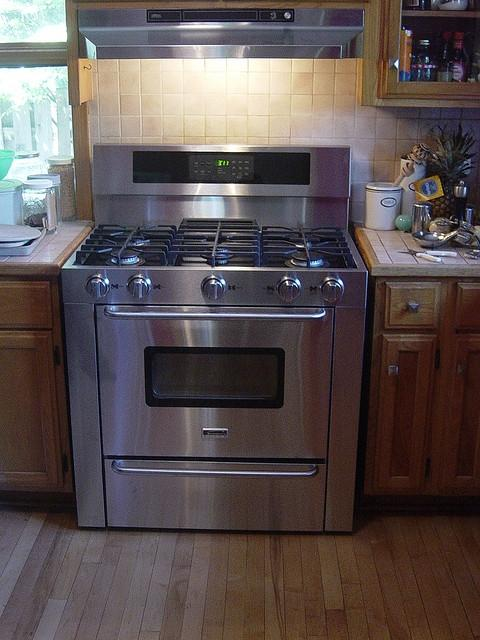pineapple: (428, 117, 478, 220)
